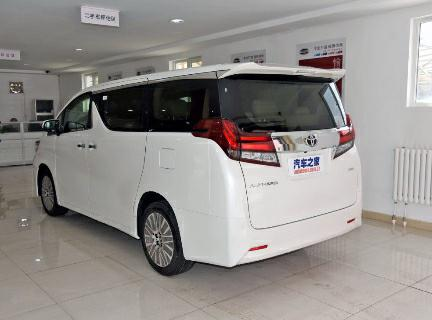丰田-埃尔法: (28, 56, 371, 287)
